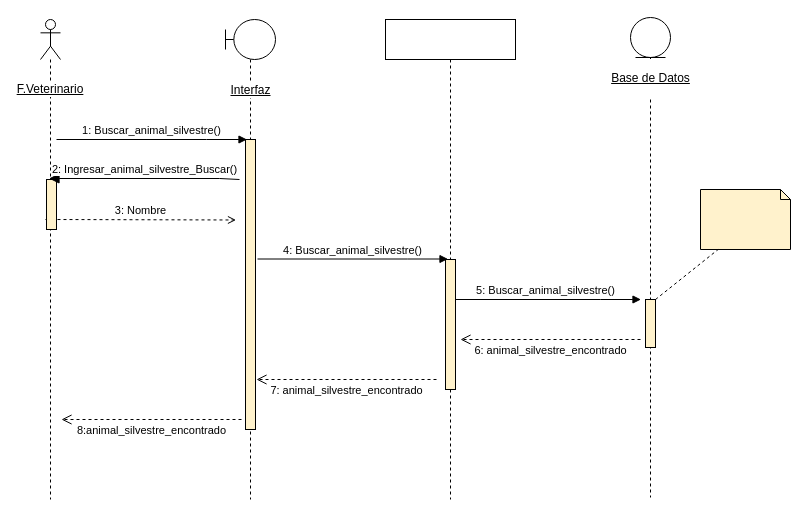
This 808x517 diagram has some shape labels left out. The box of each missing label's shape, as (x1, y1, x2, y2) in pixels:
animal_silvestre: (384, 18, 516, 500)
Puede devolver uno o más pacientes: (700, 188, 790, 250)
